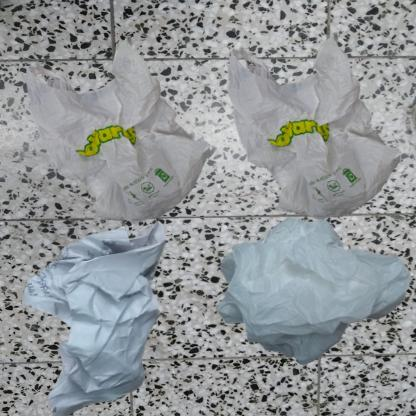bolsa: (10, 10, 258, 284), (213, 10, 416, 259), (213, 213, 416, 373)
papel: (10, 213, 203, 416)
